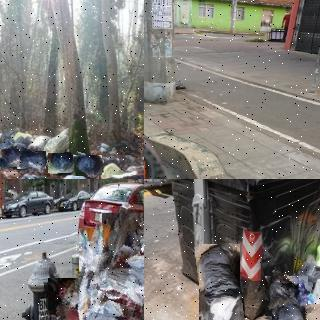Garbage: (72, 224, 144, 320), (95, 209, 144, 302), (196, 243, 242, 320), (45, 276, 109, 320), (263, 273, 311, 319), (268, 300, 320, 320), (72, 153, 103, 178), (16, 149, 47, 171), (48, 153, 74, 174), (0, 147, 20, 168), (135, 211, 144, 252)
